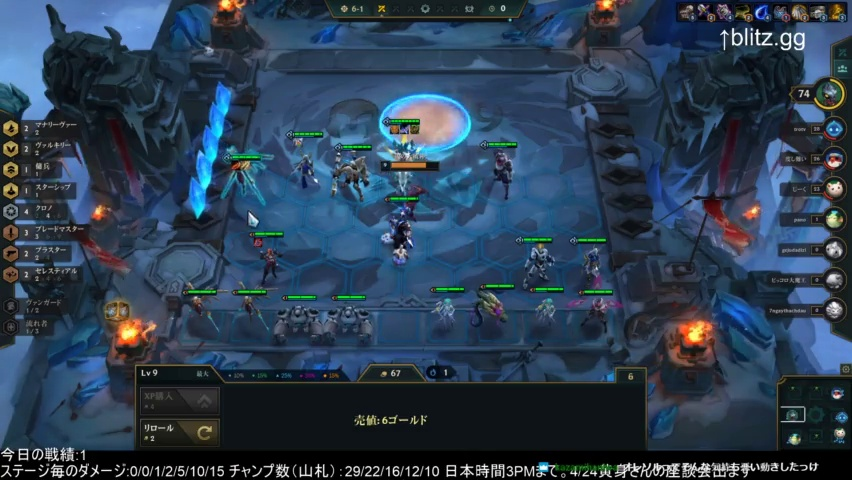irelia: (575, 287, 615, 341)
soraka: (426, 281, 472, 351), (524, 284, 567, 343)
velkoz: (470, 280, 521, 348)
